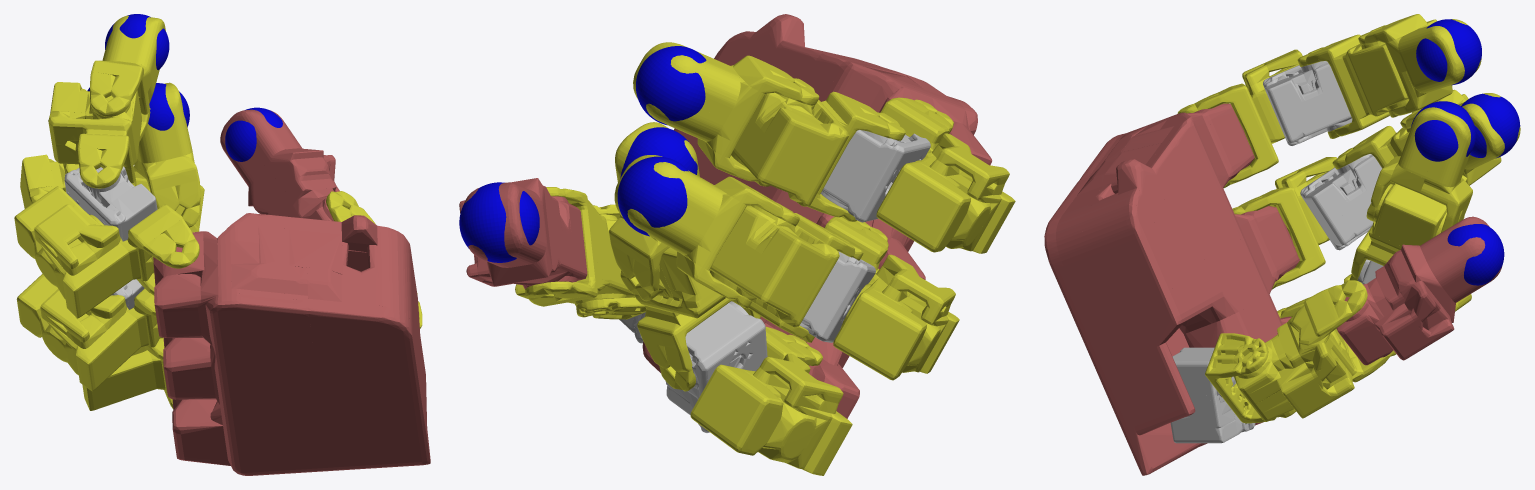
The model's file is hand.glb.
The picture shows the model from 3 angles, left to right: view 1: azimuth 30°, elevation 25°; view 2: azimuth 150°, elevation 25°; view 3: azimuth 270°, elevation 25°; orthographic projection. The views are drawn at different scales.
Parts seen in each view (by area): view 1: world; view 2: world; view 3: world.
Boxes of the visible parts, x1,y1,x2,y2 form: world: [14, 14, 430, 475]; world: [459, 14, 1015, 475]; world: [1044, 14, 1520, 475].
Bounding box in the file's own units: 0.1781 × 0.177 × 0.1928.
